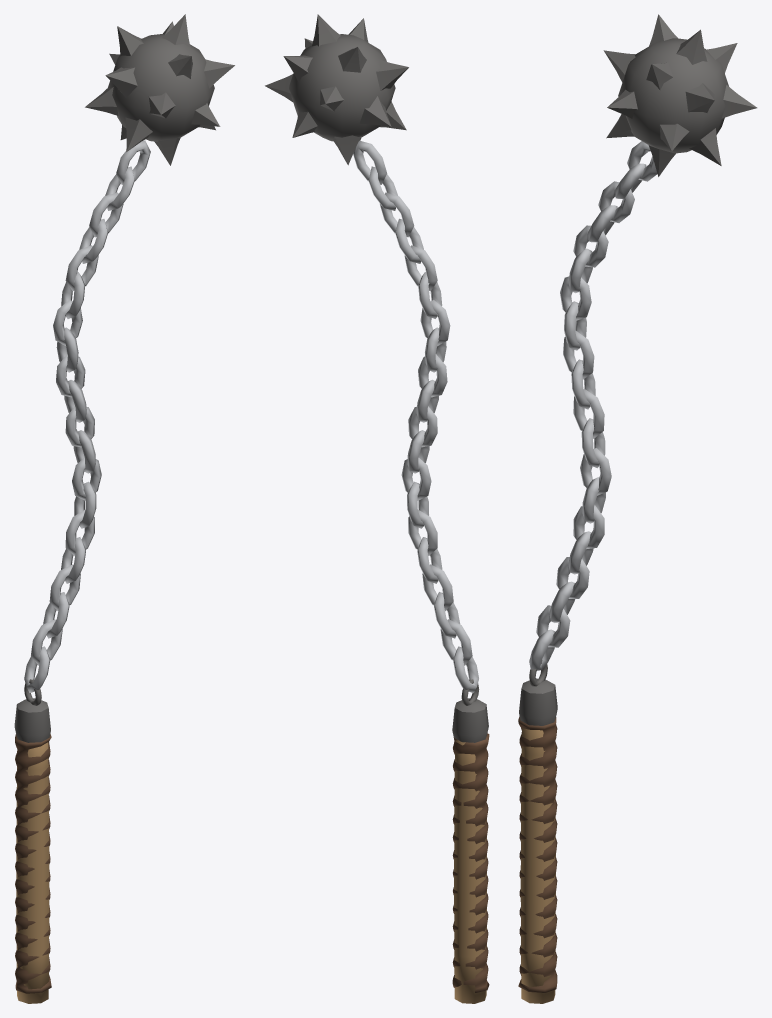
Rendered from dwarven-dorn-dergar.glb.
The picture shows the model from 3 angles, left to right: view 1: azimuth 30°, elevation 25°; view 2: azimuth 150°, elevation 25°; view 3: azimuth 330°, elevation 25°; orthographic projection. The views are drawn at different scales.
Visible parts, largest first — view 1: dwarven-dorn-dergar; view 2: dwarven-dorn-dergar; view 3: dwarven-dorn-dergar.
Part boxes in pixels (x1,y1,x2,y2): dwarven-dorn-dergar: (14, 14, 234, 1003); dwarven-dorn-dergar: (265, 14, 489, 1003); dwarven-dorn-dergar: (518, 14, 757, 1003).
Bounding box in the file's own units: 0.592 × 2.53 × 0.3219.
